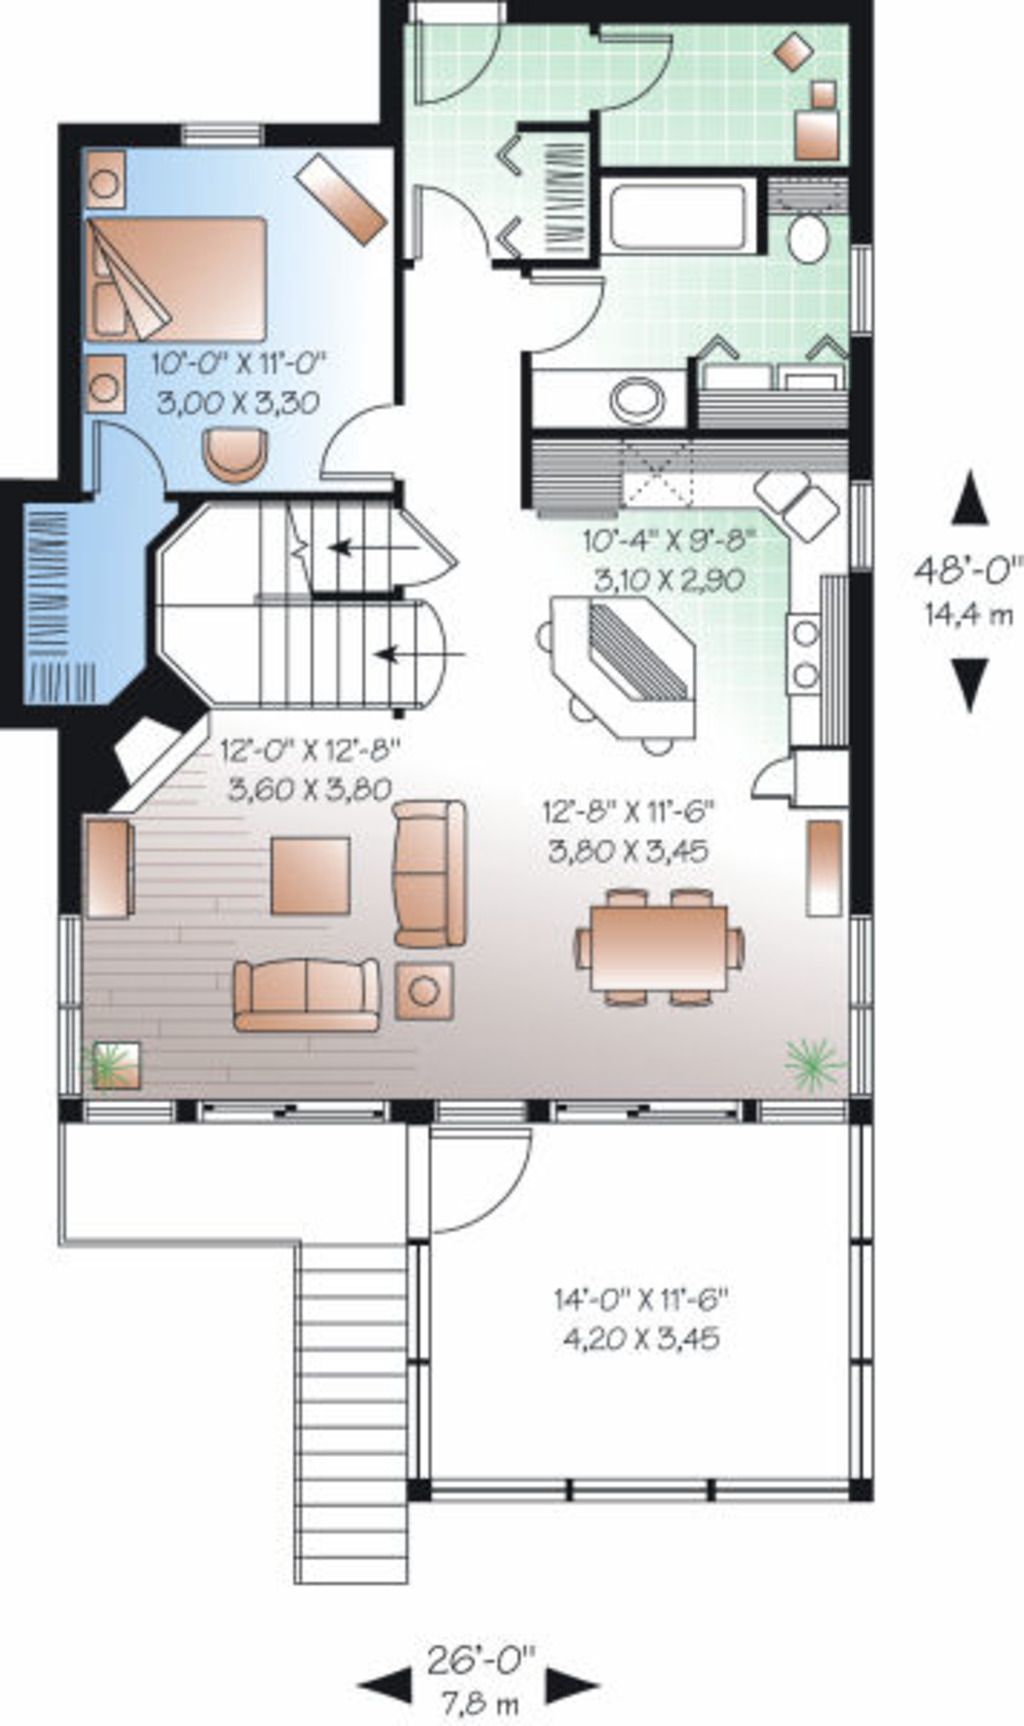bed: (87, 213, 282, 350)
dining_table: (566, 879, 761, 1024)
door: (422, 1126, 533, 1242), (407, 9, 503, 111), (407, 178, 507, 265), (592, 29, 681, 124), (311, 402, 402, 494), (85, 411, 179, 500), (524, 268, 607, 361)
kitchen_bar: (528, 588, 702, 759)
large_sofa: (215, 954, 379, 1043), (386, 794, 472, 954)
small_sink: (522, 368, 694, 435)
stairs: (154, 502, 424, 716), (285, 1229, 416, 1594)
tub: (600, 166, 763, 263)
windows: (839, 911, 887, 1102), (48, 915, 91, 1091), (844, 474, 883, 577), (850, 233, 883, 339)
